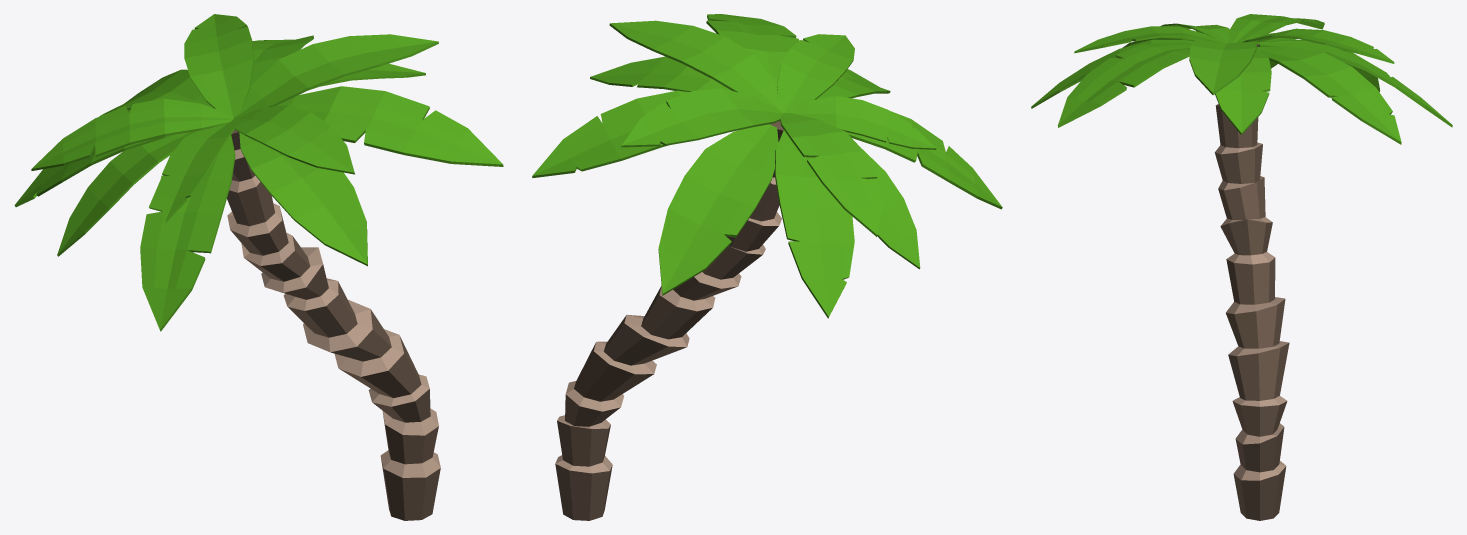
Rendered from Isl_5_Palm_3.fbx.
3 views of the same model, side by side, from view 1: azimuth 30°, elevation 25°; view 2: azimuth 150°, elevation 25°; view 3: azimuth 270°, elevation 25° (orthographic). The views are drawn at different scales.
Visible parts, largest first — view 1: Isl_5_Palm_3; view 2: Isl_5_Palm_3; view 3: Isl_5_Palm_3.
Part boxes in pixels (<box>): Isl_5_Palm_3: <box>14,14,503,520</box>; Isl_5_Palm_3: <box>532,14,1002,520</box>; Isl_5_Palm_3: <box>1031,14,1452,520</box>.
Size of the model in its own units: 754 by 849 by 942.
1 material, 1 textured.
